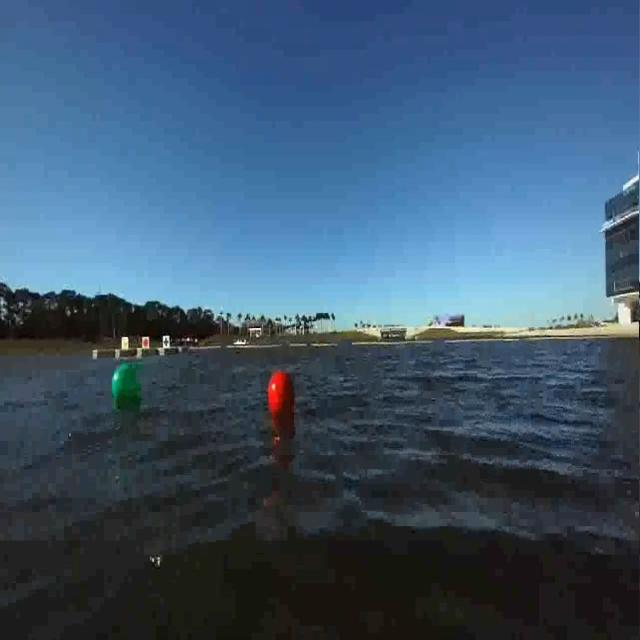green-buoy: (108, 364, 146, 410)
red-buoy: (260, 378, 298, 428)
